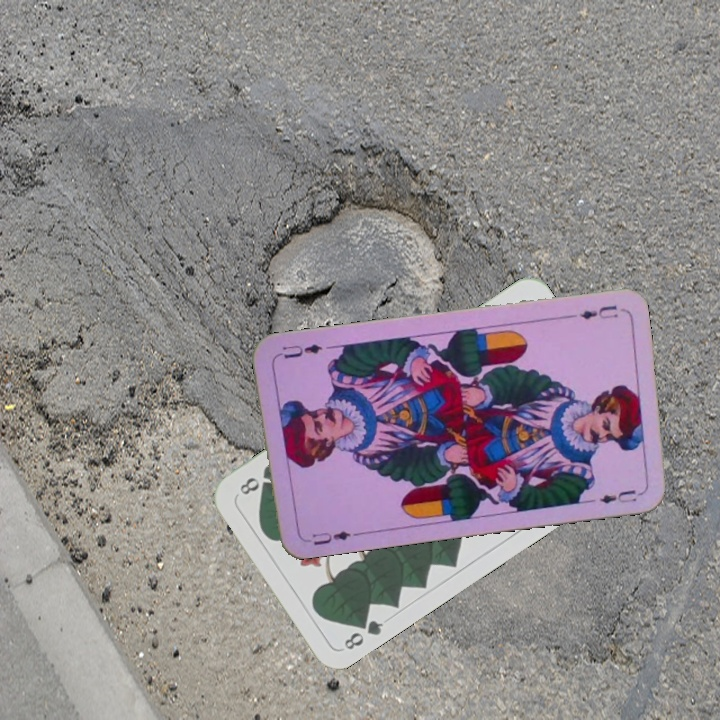EU: (308, 527, 360, 548), (575, 301, 621, 322)
G8: (340, 612, 386, 653)
